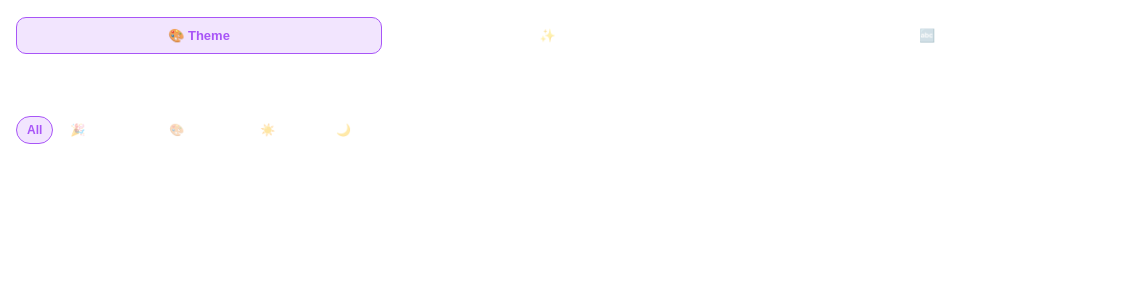
Test: ThemePanel tabs › Font tab shows the font grid and live preview using event title
Click the button "🔤 Font" at [943, 35], box [760, 16, 1126, 54]
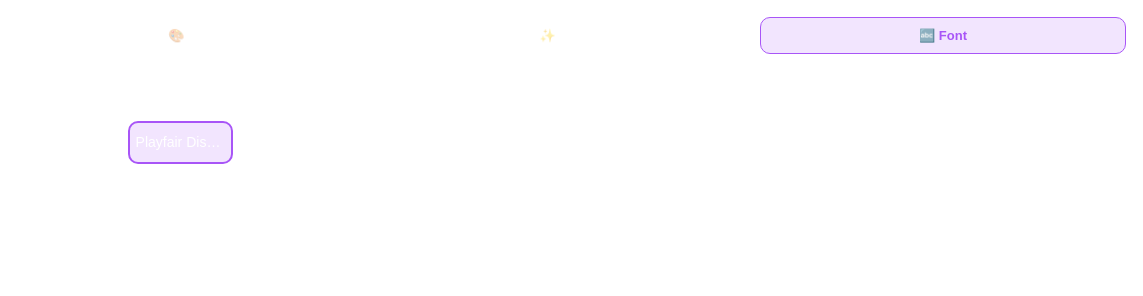
Expected: the button "Customize colors" is not shown
Expected: the button "Playfair Display" is shown, [128, 120, 233, 164]
